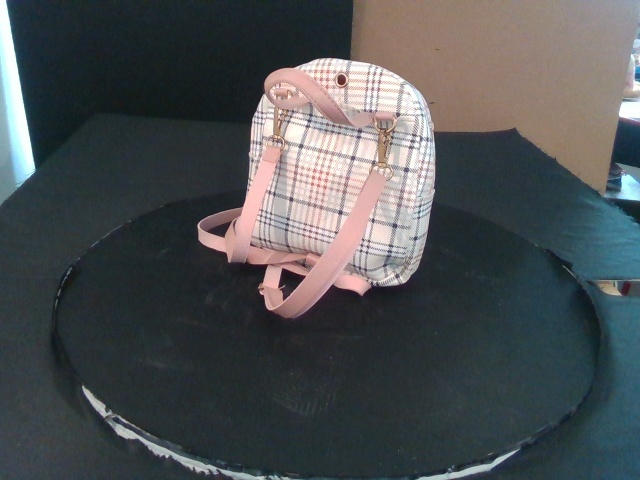bag: (242, 58, 435, 286)
